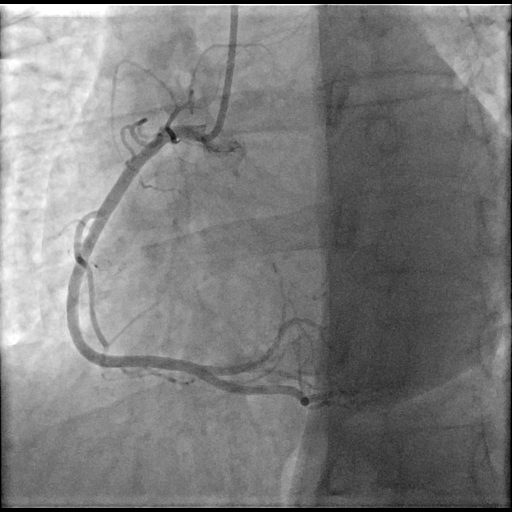RCA: (68, 122, 274, 394)
catherter: (206, 4, 239, 144)
